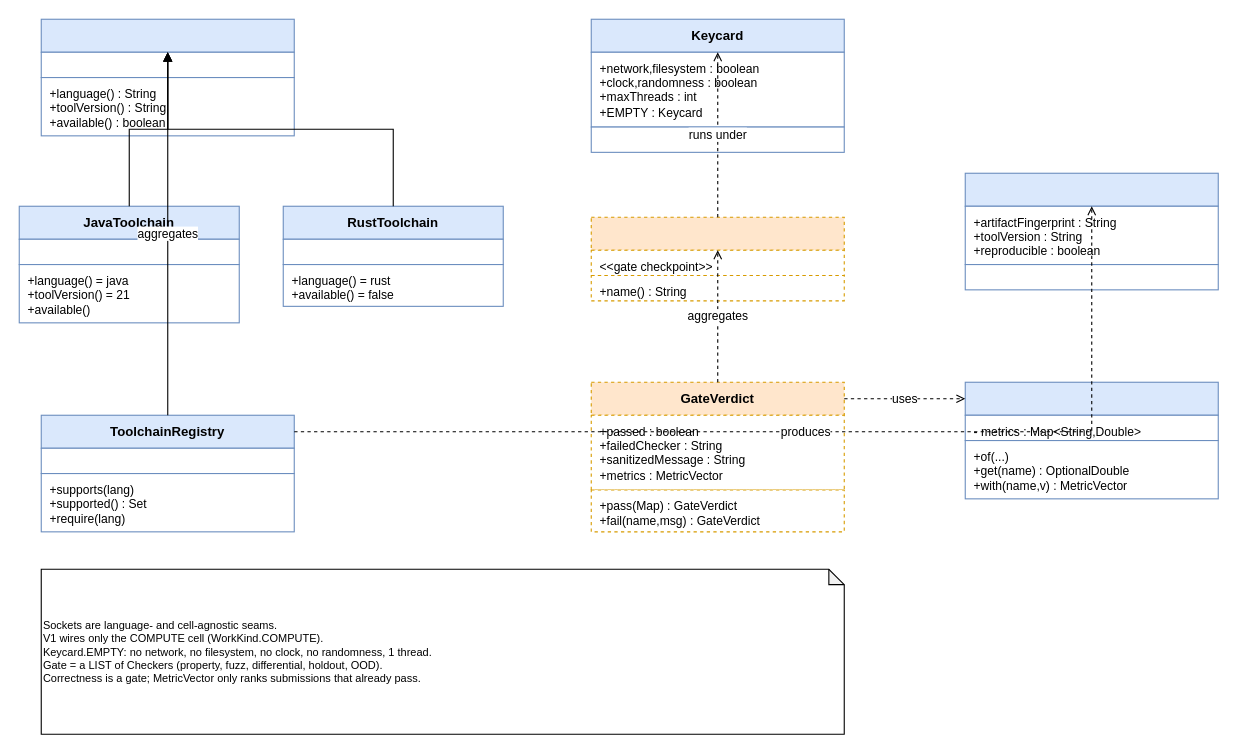
The diagram is 1238 pixels wide and 754 high, and some of its shapes have lost their labels. The box of each missing label's shape, as (x1, y1, x2, y2) in pixels:
<<interface>> Checker: (590, 216, 844, 250)
<<interface>> Toolchain: (40, 18, 294, 52)
BuildResult: (964, 172, 1218, 206)
MetricVector: (964, 381, 1218, 415)
